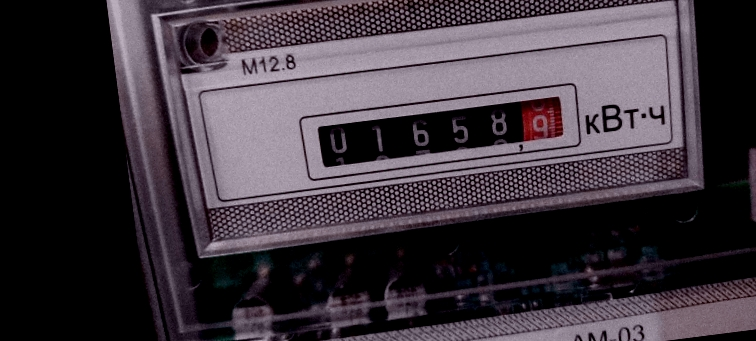0: (325, 121, 350, 155)
1: (370, 120, 386, 153)
5: (449, 111, 472, 145)
6: (409, 115, 433, 148)
8: (487, 104, 510, 138)
9: (529, 111, 550, 139)
screen: (290, 71, 589, 186)
